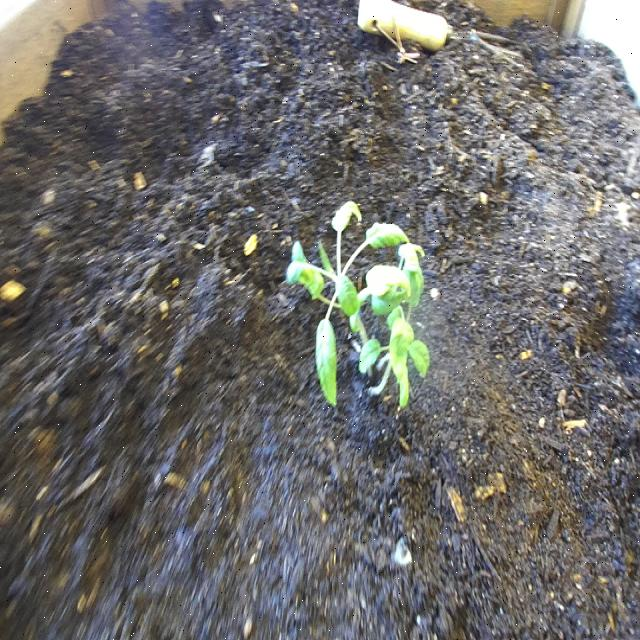Healthy: (286, 199, 432, 419)
